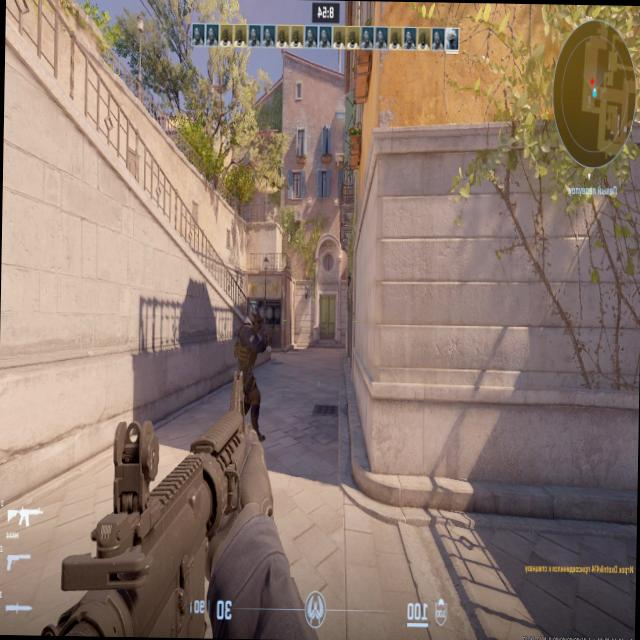CT: (242, 311, 264, 412)
CT_heat: (249, 313, 259, 330)
